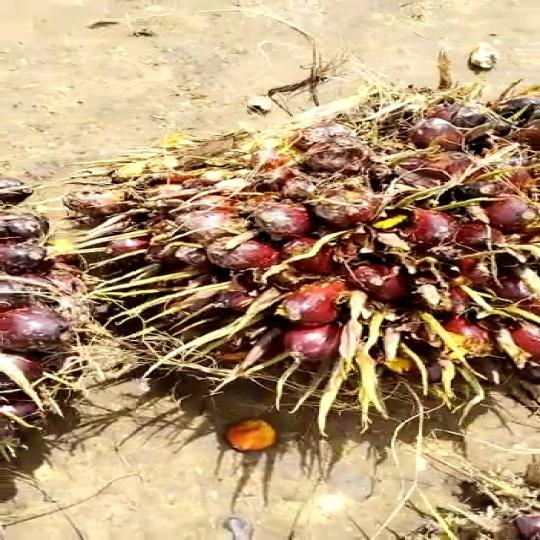masak: (59, 73, 540, 460)
